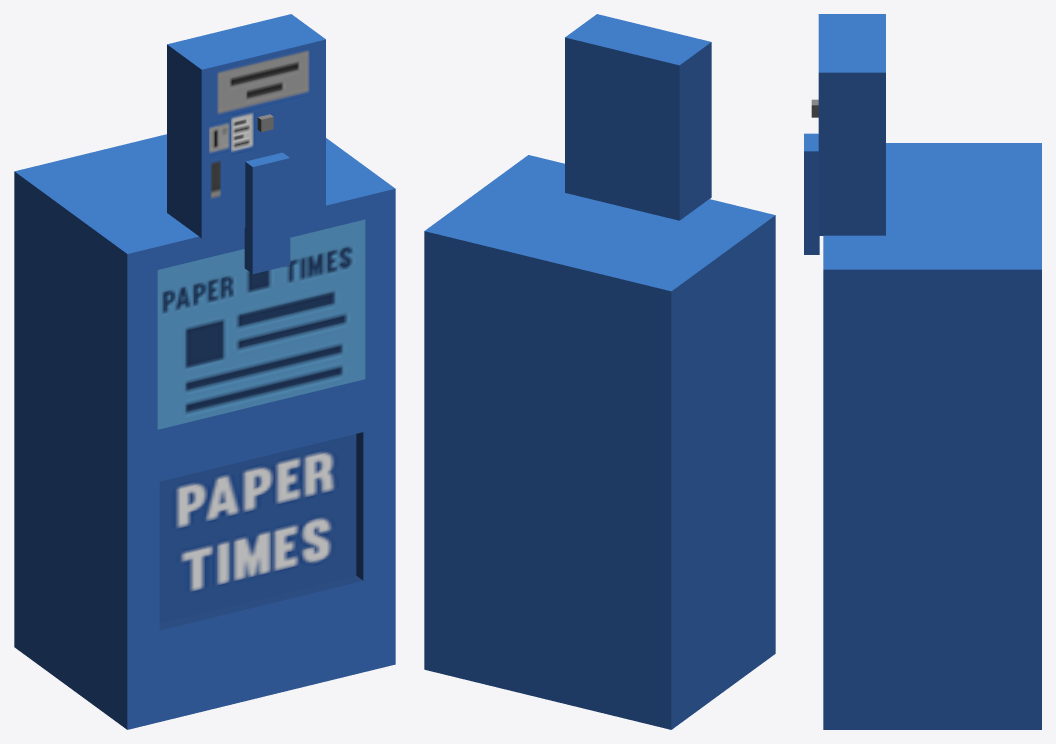
The model's file is SM_PaperStand_Blue_01.fbx.
The picture shows the model from 3 angles, left to right: view 1: azimuth 30°, elevation 25°; view 2: azimuth 150°, elevation 25°; view 3: azimuth 270°, elevation 25°; orthographic projection. The views are drawn at different scales.
Parts seen in each view (by area): view 1: SM_PaperStand_Blue_01; view 2: SM_PaperStand_Blue_01; view 3: SM_PaperStand_Blue_01.
Boxes of the visible parts, left/top/right/bottom form: SM_PaperStand_Blue_01: left=14, top=14, right=395, bottom=729; SM_PaperStand_Blue_01: left=424, top=14, right=775, bottom=729; SM_PaperStand_Blue_01: left=804, top=14, right=1041, bottom=729.
Bounding box in the file's own units: 1 × 2.3 × 0.7945.
